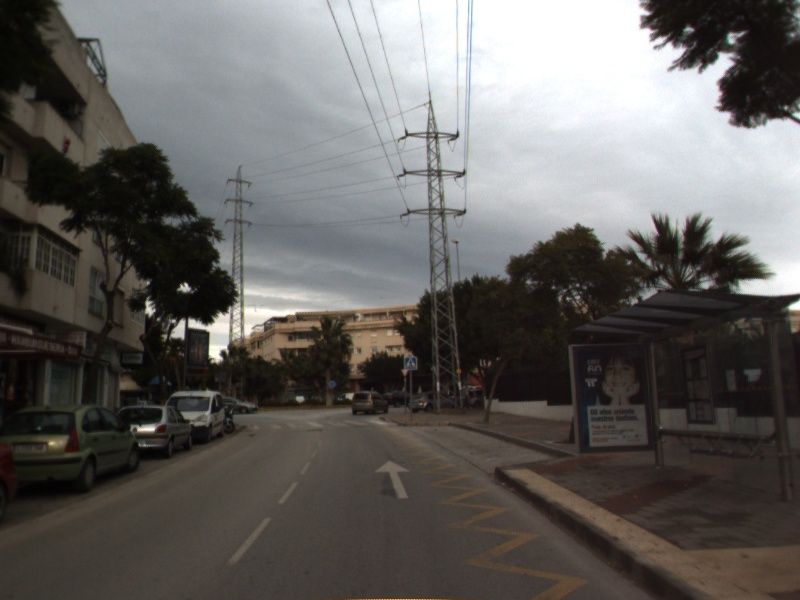STRAIGHT: (372, 458, 413, 501)
